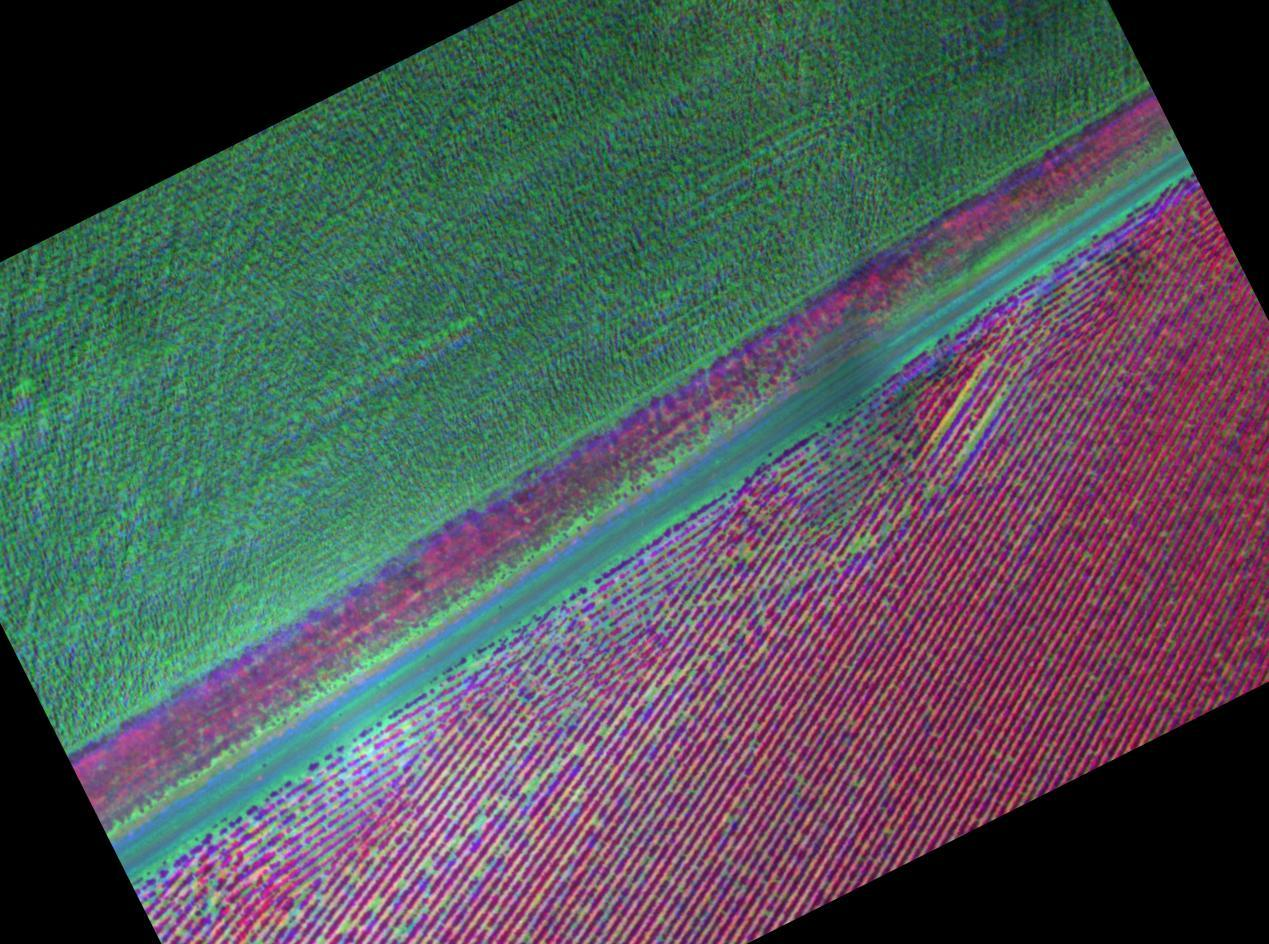dc: (529, 783, 534, 789), (276, 855, 281, 860), (343, 924, 348, 929), (649, 692, 654, 696), (425, 862, 429, 866)
